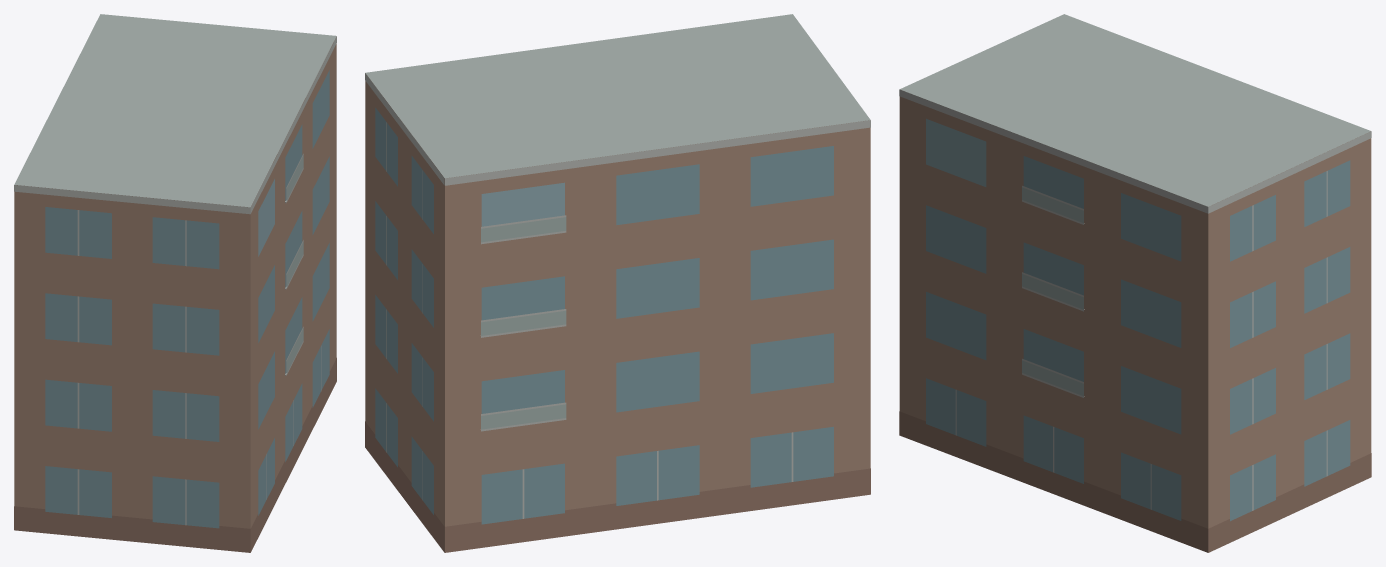
The model's file is survey-upis-32959843.glb.
The picture shows the model from 3 angles, left to right: view 1: azimuth 30°, elevation 25°; view 2: azimuth 150°, elevation 25°; view 3: azimuth 270°, elevation 25°; orthographic projection. The views are drawn at different scales.
Parts seen in each view (by area): view 1: survey-upis-32959843.tmp; view 2: survey-upis-32959843.tmp; view 3: survey-upis-32959843.tmp.
Boxes of the visible parts, left/top/right/bottom form: survey-upis-32959843.tmp: left=14, top=14, right=336, bottom=552; survey-upis-32959843.tmp: left=365, top=14, right=870, bottom=552; survey-upis-32959843.tmp: left=899, top=14, right=1371, bottom=552.
Size of the model in its own units: 14.59 by 12.2 by 15.09.
